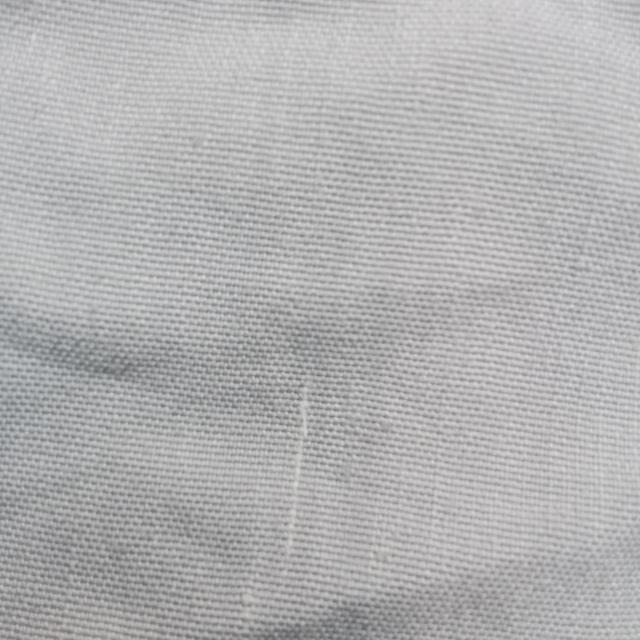pulled_or_thick_thread: (277, 376, 321, 567)
